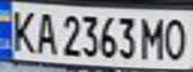2: (57, 10, 81, 57)
3: (115, 14, 139, 61), (78, 11, 100, 58)
6: (96, 12, 121, 60)
A: (30, 8, 60, 55)
K: (3, 7, 39, 53)
M: (139, 14, 169, 61)
O: (160, 15, 190, 61)
